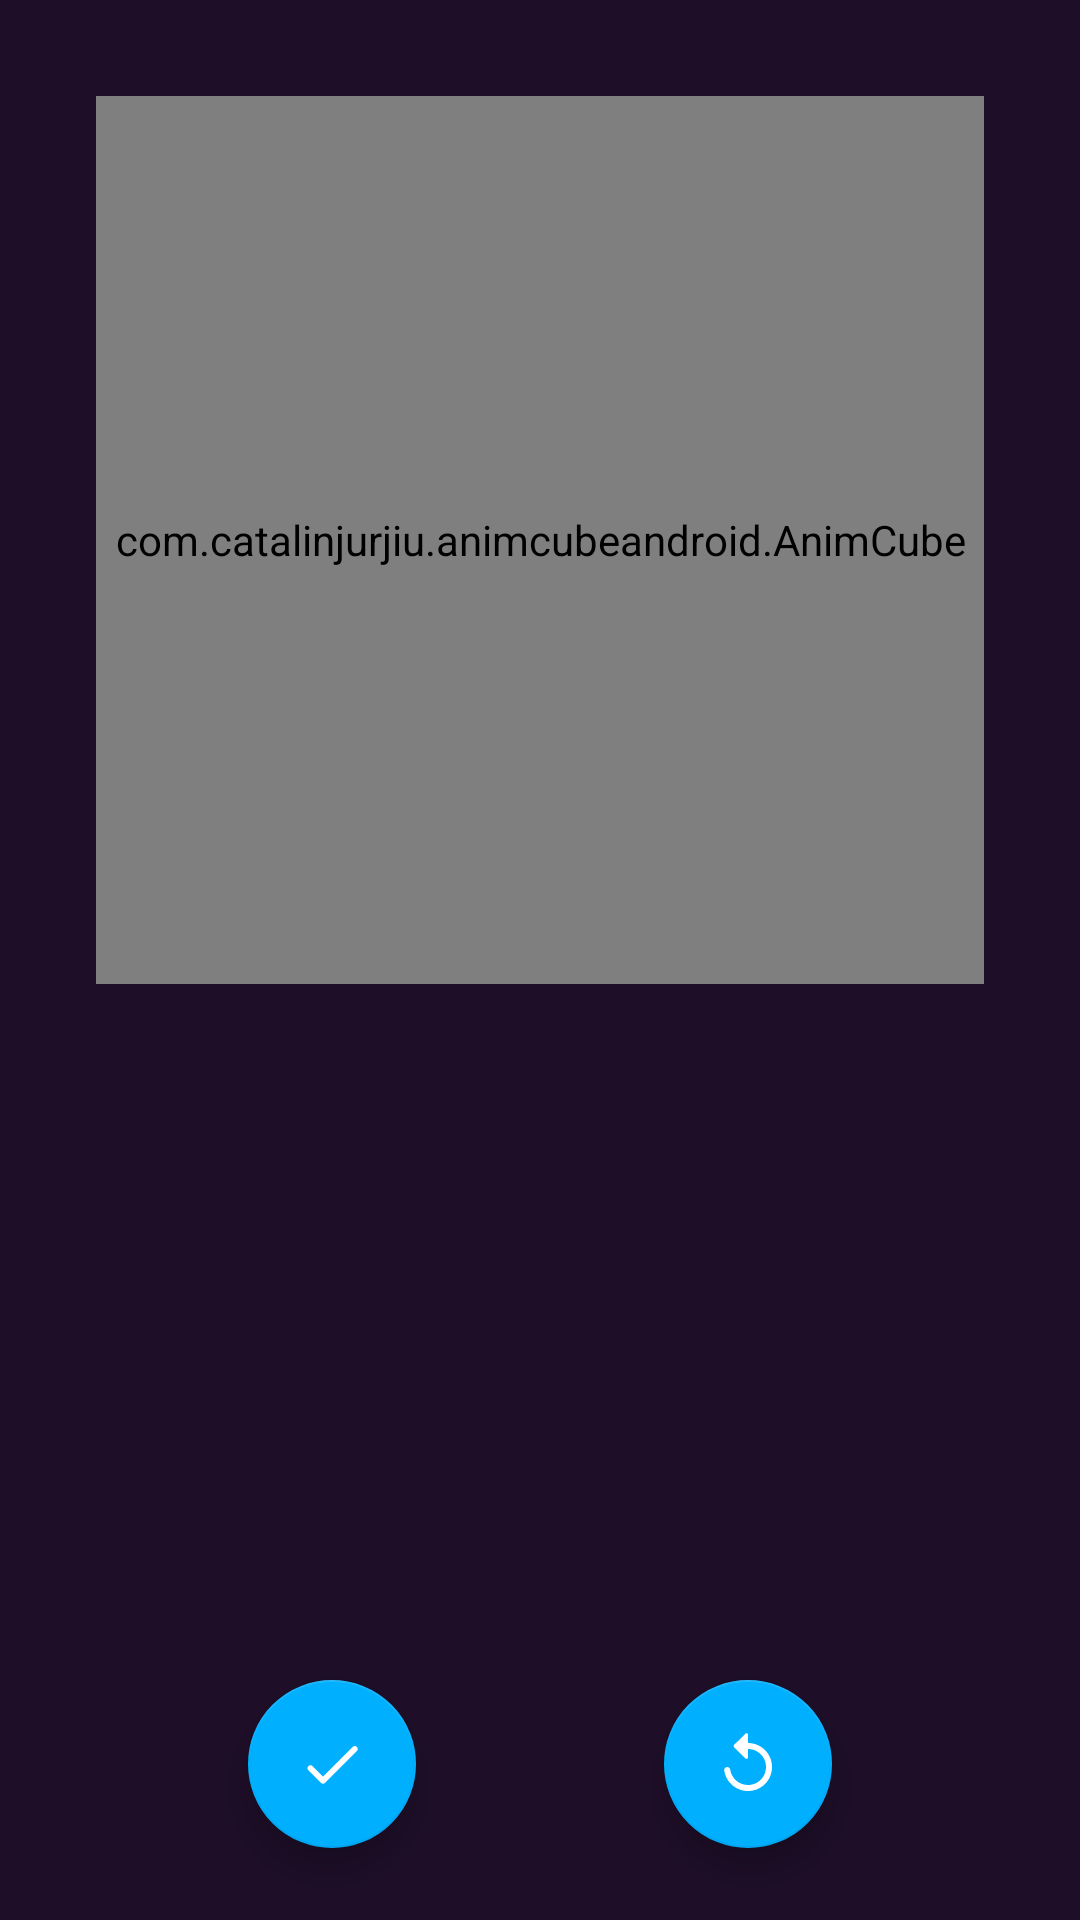

Screen size 1080 x 1920. Icon name, then its center in pixels as (x,y):
Analizar novamente: (748,1764)
Confirmar: (332,1764)
